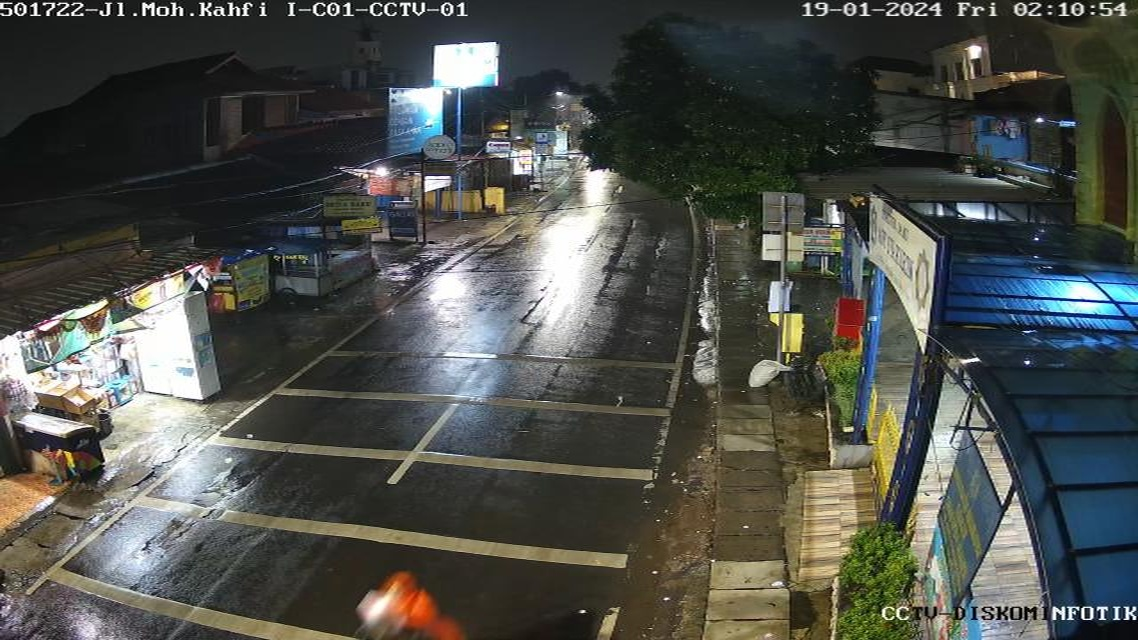Gerobak: (270, 247, 336, 301), (213, 257, 272, 311)
